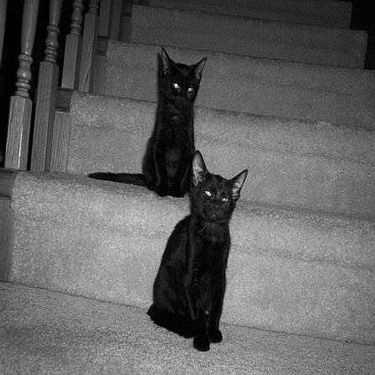cat: (144, 142, 253, 344), (86, 39, 207, 191)
